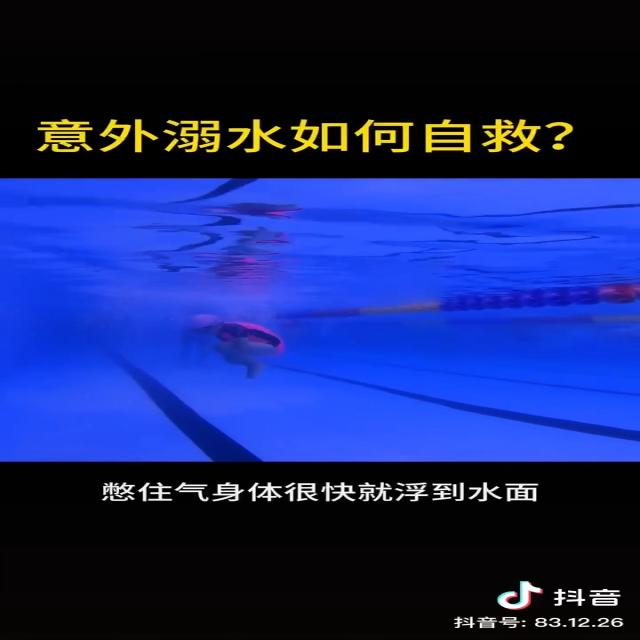Drowning: (191, 313, 290, 376)
